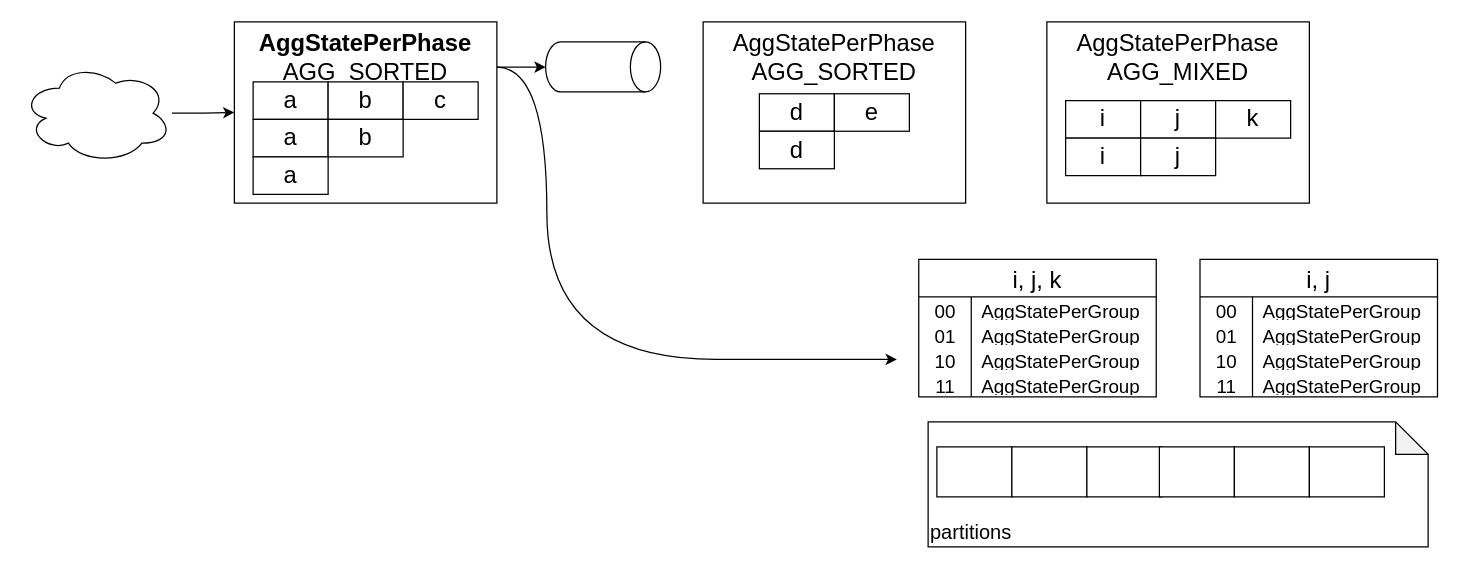
Some shapes in this 1460 by 569 pixel diagram are drawn without their labels. Each missing label, with the centre of its shape:
"sort_out" goes at (602,66).
"Вход" goes at (96,112).
